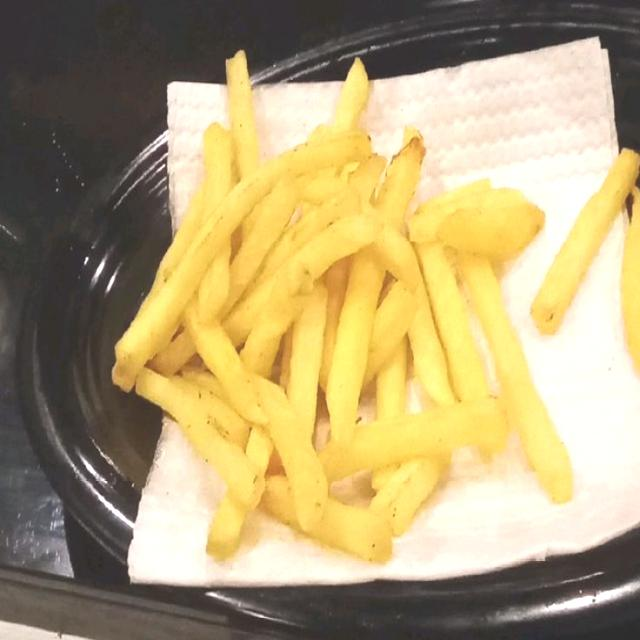kentang goreng: (111, 56, 574, 566)
